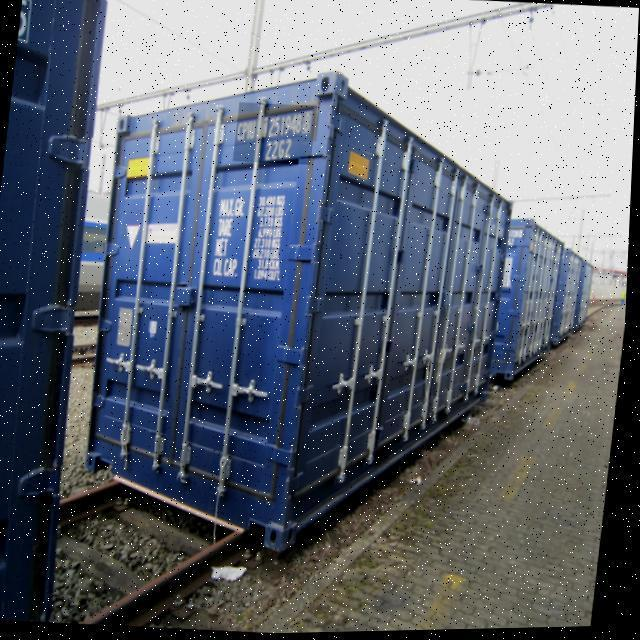container_number_h: (234, 102, 318, 167)
